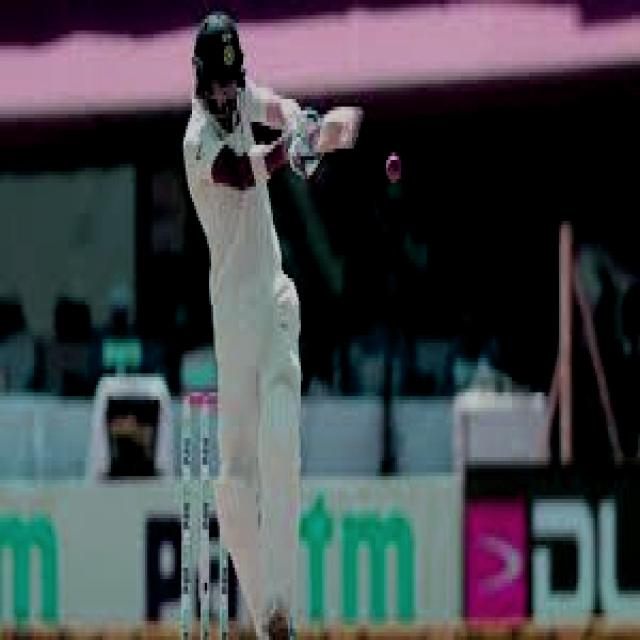toe: (345, 104, 366, 150)
